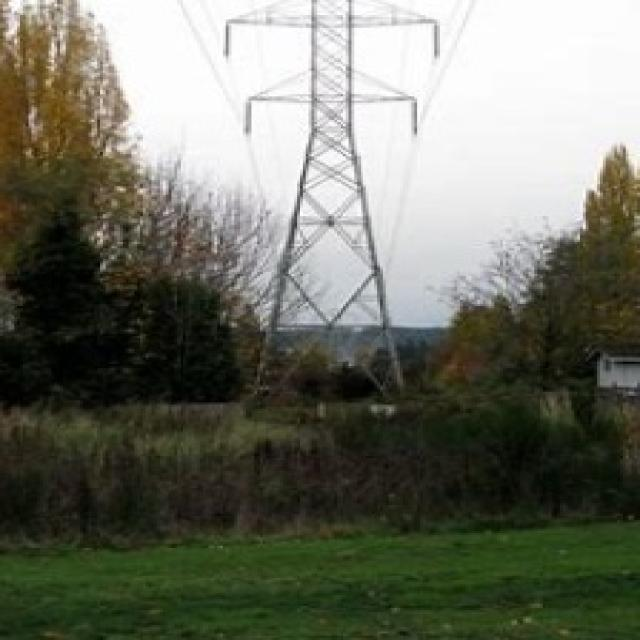utility poles: (175, 245, 334, 421), (346, 288, 525, 436)
